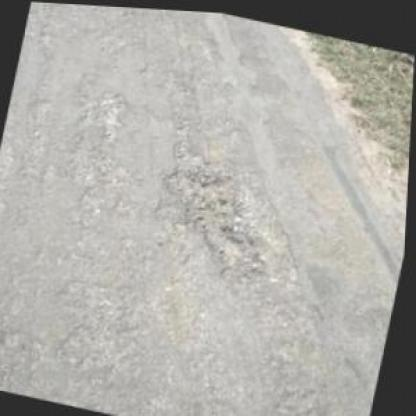pothole: (146, 160, 282, 280), (90, 84, 132, 138)
